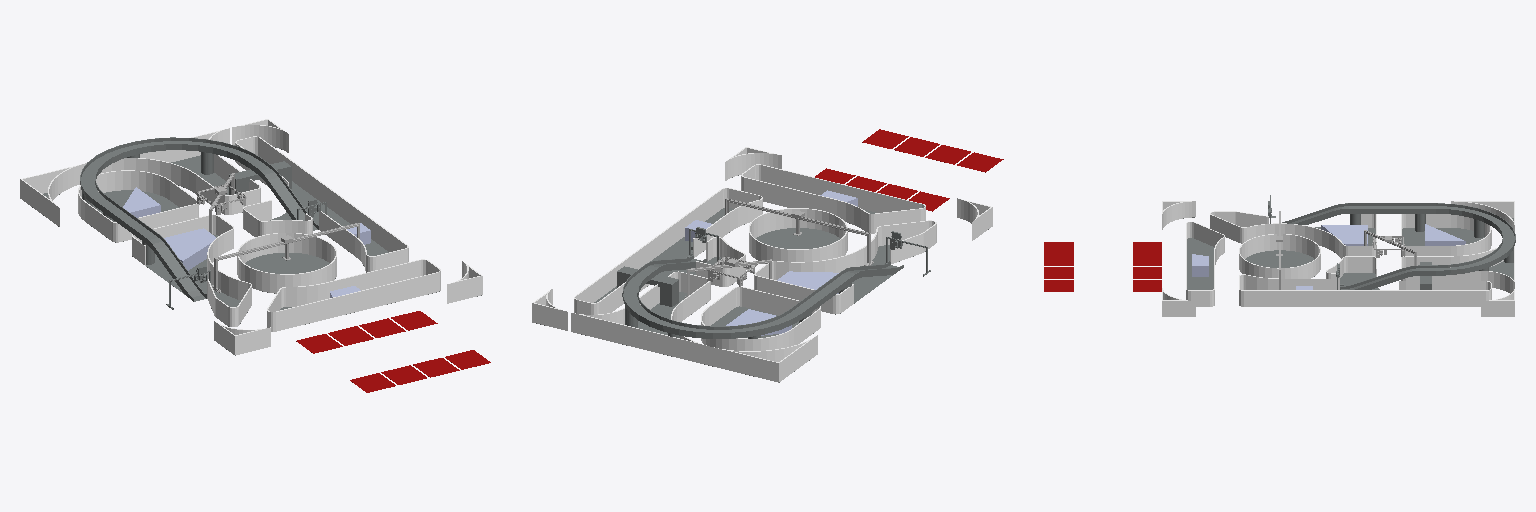
robot.urdf — track2:
<?xml version="1.0" encoding="utf-8"?>
<robot
  name="track2">
  <link
    name="base_link">
    <inertial>
      <origin
        xyz="1.33E-17 -1 -0.025"
        rpy="0 0 0" />
      <mass
        value="12480" />
      <inertia
        ixx="37440"
        ixy="2.6701E-13"
        ixz="-1.4265E-29"
        iyy="1.0885E-28"
        iyz="2.0002E-12"
        izz="37440" />
    </inertial>
    <visual>
      <origin
        xyz="0 0 0"
        rpy="0 0 0" />
      <geometry>
        <mesh
          filename="package://pkg/meshes/track2/base_link.STL" />
      </geometry>
      <material
        name="">
        <color
          rgba="0.52941 0.54902 0.54902 1" />
      </material>
    </visual>
    <collision>
      <origin
        xyz="0 0 0"
        rpy="0 0 0" />
      <geometry>
        <mesh
          filename="package://pkg/meshes/track2/base_link.STL" />
      </geometry>
    </collision>
  </link>
  <link
    name="Green">
    <inertial>
      <origin
        xyz="-0.021288 0.0005 -0.20511"
        rpy="0 0 0" />
      <mass
        value="90.205" />
      <inertia
        ixx="203.73"
        ixy="1.8337E-13"
        ixz="-11.418"
        iyy="280.39"
        iyz="5.1135E-13"
        izz="76.66" />
    </inertial>
    <visual>
      <origin
        xyz="0 0 0"
        rpy="0 0 0" />
      <geometry>
        <mesh
          filename="package://pkg/meshes/track2/Green.STL" />
      </geometry>
      <material
        name="">
        <color
          rgba="0.52941 0.54902 0.54902 1" />
      </material>
    </visual>
    <collision>
      <origin
        xyz="0 0 0"
        rpy="0 0 0" />
      <geometry>
        <mesh
          filename="package://pkg/meshes/track2/Green.STL" />
      </geometry>
    </collision>
  </link>
  <joint
    name="reference_axis1"
    type="fixed">
    <origin
      xyz="0 0.01 0"
      rpy="1.5708 0 0" />
    <parent
      link="base_link" />
    <child
      link="Green" />
    <axis
      xyz="0 0 0" />
  </joint>
  <link
    name="GaoJiaLuMian">
    <inertial>
      <origin
        xyz="-0.43446 0.31281 -1.4529"
        rpy="0 0 0" />
      <mass
        value="635.07" />
      <inertia
        ixx="0"
        ixy="0"
        ixz="0"
        iyy="0"
        iyz="0"
        izz="0" />
    </inertial>
    <visual>
      <origin
        xyz="0 0 0"
        rpy="0 0 0" />
      <geometry>
        <mesh
          filename="package://pkg/meshes/track2/GaoJiaLuMian.STL" />
      </geometry>
      <material
        name="">
        <color
          rgba="0.52941 0.54902 0.54902 1" />
      </material>
    </visual>
    <collision>
      <origin
        xyz="0 0 0"
        rpy="0 0 0" />
      <geometry>
        <mesh
          filename="package://pkg/meshes/track2/GaoJiaLuMian.STL" />
      </geometry>
    </collision>
  </link>
  <joint
    name="reference_axis2"
    type="fixed">
    <origin
      xyz="0 0 0.01"
      rpy="1.5708 0 0" />
    <parent
      link="base_link" />
    <child
      link="GaoJiaLuMian" />
    <axis
      xyz="0 0 0" />
  </joint>
  <link
    name="GaoJiaLiZhu">
    <inertial>
      <origin
        xyz="0.0077567 0.17842 -1.708"
        rpy="0 0 0" />
      <mass
        value="640.46" />
      <inertia
        ixx="345.72"
        ixy="-8.1992"
        ixz="82.902"
        iyy="1102.5"
        iyz="-1.8606"
        izz="757.1" />
    </inertial>
    <visual>
      <origin
        xyz="0 0 0"
        rpy="0 0 0" />
      <geometry>
        <mesh
          filename="package://pkg/meshes/track2/GaoJiaLiZhu.STL" />
      </geometry>
      <material
        name="">
        <color
          rgba="0.52941 0.54902 0.54902 1" />
      </material>
    </visual>
    <collision>
      <origin
        xyz="0 0 0"
        rpy="0 0 0" />
      <geometry>
        <mesh
          filename="package://pkg/meshes/track2/GaoJiaLiZhu.STL" />
      </geometry>
    </collision>
  </link>
  <joint
    name="reference_axis3"
    type="fixed">
    <origin
      xyz="0 0 0.01"
      rpy="1.5708 0 0" />
    <parent
      link="base_link" />
    <child
      link="GaoJiaLiZhu" />
    <axis
      xyz="0 0 0" />
  </joint>
  <link
    name="GaoJiaHuLan">
    <inertial>
      <origin
        xyz="-0.42662 0.34899 -1.3727"
        rpy="0 0 0" />
      <mass
        value="66.326" />
      <inertia
        ixx="0.34956"
        ixy="0.0013582"
        ixz="-0.038451"
        iyy="0.35336"
        iyz="0.012332"
        izz="0.0046703" />
    </inertial>
    <visual>
      <origin
        xyz="0 0 0"
        rpy="0 0 0" />
      <geometry>
        <mesh
          filename="package://pkg/meshes/track2/GaoJiaHuLan.STL" />
      </geometry>
      <material
        name="">
        <color
          rgba="0.52941 0.54902 0.54902 1" />
      </material>
    </visual>
    <collision>
      <origin
        xyz="0 0 0"
        rpy="0 0 0" />
      <geometry>
        <mesh
          filename="package://pkg/meshes/track2/GaoJiaHuLan.STL" />
      </geometry>
    </collision>
  </link>
  <joint
    name="reference_axis4"
    type="fixed">
    <origin
      xyz="0 0 0.01"
      rpy="1.5708 0 0" />
    <parent
      link="base_link" />
    <child
      link="GaoJiaHuLan" />
    <axis
      xyz="0 0 0" />
  </joint>
  <link
    name="DaoLuHuLan">
    <inertial>
      <origin
        xyz="0.064039 0.141 -0.21601"
        rpy="0 0 0" />
      <mass
        value="2204.4" />
      <inertia
        ixx="7101"
        ixy="-7.7475E-14"
        ixz="-221.52"
        iyy="9589.6"
        iyz="-1.3724E-13"
        izz="2488.6" />
    </inertial>
    <visual>
      <origin
        xyz="0 0 0"
        rpy="0 0 0" />
      <geometry>
        <mesh
          filename="package://pkg/meshes/track2/DaoLuHuLan.STL" />
      </geometry>
      <material
        name="">
        <color
          rgba="1 1 1 1" />
      </material>
    </visual>
    <collision>
      <origin
        xyz="0 0 0"
        rpy="0 0 0" />
      <geometry>
        <mesh
          filename="package://pkg/meshes/track2/DaoLuHuLan.STL" />
      </geometry>
    </collision>
  </link>
  <joint
    name="reference_axis5"
    type="fixed">
    <origin
      xyz="0 0 0.01"
      rpy="1.5708 0 0" />
    <parent
      link="base_link" />
    <child
      link="DaoLuHuLan" />
    <axis
      xyz="0 0 0" />
  </joint>
  <link
    name="Parking">
    <inertial>
      <origin
        xyz="-0.015 -0.0095 4"
        rpy="0 0 0" />
      <mass
        value="14.976" />
      <inertia
        ixx="8.424"
        ixy="-3.3863E-19"
        ixz="4.4409E-16"
        iyy="13.293"
        iyz="1.3425E-18"
        izz="4.8691" />
    </inertial>
    <visual>
      <origin
        xyz="0 0 0"
        rpy="0 0 0" />
      <geometry>
        <mesh
          filename="package://pkg/meshes/track2/Parking.STL" />
      </geometry>
      <material
        name="">
        <color
          rgba="0.69412 0.098039 0.098039 1" />
      </material>
    </visual>
    <collision>
      <origin
        xyz="0 0 0"
        rpy="0 0 0" />
      <geometry>
        <mesh
          filename="package://pkg/meshes/track2/Parking.STL" />
      </geometry>
    </collision>
  </link>
  <joint
    name="reference_axis6"
    type="fixed">
    <origin
      xyz="0 0 0.01"
      rpy="1.5708 0 0" />
    <parent
      link="base_link" />
    <child
      link="Parking" />
    <axis
      xyz="0 0 0" />
  </joint>
  <link
    name="JianZhu">
    <inertial>
      <origin
        xyz="-0.535660882369995 0.091 -0.142348821041457"
        rpy="0 0 0" />
      <mass
        value="1482" />
      <inertia
        ixx="2309.92172498835"
        ixy="7.88860905221012E-31"
        ixz="-764.746547214597"
        iyy="3070.9178306123"
        iyz="0"
        izz="760.996105623949" />
    </inertial>
    <visual>
      <origin
        xyz="0 0 0"
        rpy="0 0 0" />
      <geometry>
        <mesh
          filename="package://pkg/meshes/track2/JianZhu.STL" />
      </geometry>
      <material
        name="">
        <color
          rgba="0.792156862745098 0.819607843137255 0.933333333333333 1" />
      </material>
    </visual>
    <collision>
      <origin
        xyz="0 0 0"
        rpy="0 0 0" />
      <geometry>
        <mesh
          filename="package://pkg/meshes/track2/JianZhu.STL" />
      </geometry>
    </collision>
  </link>
  <joint
    name="reference_axis7"
    type="fixed">
    <origin
      xyz="0 0 0.01"
      rpy="1.5708 0 0" />
    <parent
      link="base_link" />
    <child
      link="JianZhu" />
    <axis
      xyz="0 0 0" />
  </joint>
  
  <link
    name="Camera1">
    <inertial>
      <origin
        xyz="0.045514 -0.0011551 -0.11097"
        rpy="0 0 0" />
      <mass
        value="9.1452" />
      <inertia
        ixx="0.12819"
        ixy="0.0059673"
        ixz="0.047557"
        iyy="0.3544"
        iyz="-0.00907"
        izz="0.22944" />
    </inertial>
    <visual>
      <origin
        xyz="0 0 0"
        rpy="0 0 0" />
      <geometry>
        <mesh
          filename="package://pkg/meshes/track2/Camera1.STL" />
      </geometry>
      <material
        name="">
        <color
          rgba="0.52941 0.54902 0.54902 1" />
      </material>
    </visual>
    <collision>
      <origin
        xyz="0 0 0"
        rpy="0 0 0" />
      <geometry>
        <mesh
          filename="package://pkg/meshes/track2/Camera1.STL" />
      </geometry>
    </collision>
  </link>
  <joint
    name="reference_axis9"
    type="fixed">
    <origin
      xyz="-1.4846 -1.1758 0.46888"
      rpy="6.1228E-17 -5.3433E-19 -3.1329" />
    <parent
      link="base_link" />
    <child
      link="Camera1" />
    <axis
      xyz="0 0 0" />
  </joint>
  <link
    name="LeiDa1">
    <inertial>
      <origin
        xyz="-0.063086 0.11045 0.19918"
        rpy="0 0 0" />
      <mass
        value="27.172" />
      <inertia
        ixx="8.1535"
        ixy="0.0012332"
        ixz="-5.7624E-05"
        iyy="7.6309"
        iyz="0.004968"
        izz="0.53777" />
    </inertial>
    <visual>
      <origin
        xyz="0 0 0"
        rpy="0 0 0" />
      <geometry>
        <mesh
          filename="package://pkg/meshes/track2/LeiDa1.STL" />
      </geometry>
      <material
        name="">
        <color
          rgba="0.75294 0.75294 0.75294 1" />
      </material>
    </visual>
    <collision>
      <origin
        xyz="0 0 0"
        rpy="0 0 0" />
      <geometry>
        <mesh
          filename="package://pkg/meshes/track2/LeiDa1.STL" />
      </geometry>
    </collision>
  </link>
  <joint
    name="reference-axis10"
    type="fixed">
    <origin
      xyz="-0.19987 -0.93672 0.28895"
      rpy="1.5708 6.123E-17 1.5708" />
    <parent
      link="base_link" />
    <child
      link="LeiDa1" />
    <axis
      xyz="0 0 0" />
  </joint>
  <link
    name="Camera2">
    <inertial>
      <origin
        xyz="-0.13386 0.20588 -0.13696"
        rpy="0 0 0" />
      <mass
        value="14.939" />
      <inertia
        ixx="0.64052"
        ixy="0.23937"
        ixz="-0.18614"
        iyy="0.46274"
        iyz="0.26255"
        izz="0.71826" />
    </inertial>
    <visual>
      <origin
        xyz="0 0 0"
        rpy="0 0 0" />
      <geometry>
        <mesh
          filename="package://pkg/meshes/track2/Camera2.STL" />
      </geometry>
      <material
        name="">
        <color
          rgba="0.52941 0.54902 0.54902 1" />
      </material>
    </visual>
    <collision>
      <origin
        xyz="0 0 0"
        rpy="0 0 0" />
      <geometry>
        <mesh
          filename="package://pkg/meshes/track2/Camera2.STL" />
      </geometry>
    </collision>
  </link>
  <joint
    name="reference_axis11"
    type="fixed">
    <origin
      xyz="1.21054201286997 -0.238453398504354 0.0151409820672447"
      rpy="1.5707963267949 0 0" />
    <parent
      link="base_link" />
    <child
      link="Camera2" />
    <axis
      xyz="0 0 0" />
  </joint>
 <link
    name="LeiDa2">
    <inertial>
      <origin
        xyz="1.7978 0.10931 0.21166"
        rpy="0 0 0" />
      <mass
        value="34.473" />
      <inertia
        ixx="2.2398"
        ixy="0.029814"
        ixz="-1.0456"
        iyy="3.515"
        iyz="0.016925"
        izz="2.237" />
    </inertial>
    <visual>
      <origin
        xyz="0 0 0"
        rpy="0 0 0" />
      <geometry>
        <mesh
          filename="package://pkg/meshes/track2/LeiDa2.STL" />
      </geometry>
      <material
        name="">
        <color
          rgba="0.75294 0.75294 0.75294 1" />
      </material>
    </visual>
    <collision>
      <origin
        xyz="0 0 0"
        rpy="0 0 0" />
      <geometry>
        <mesh
          filename="package://pkg/meshes/track2/LeiDa2.STL" />
      </geometry>
    </collision>
  </link>
  <joint
    name="reference-axis12"
    type="fixed">
    <origin
      xyz="-0.19987 -0.93672 0.28895"
      rpy="1.5708 6.123E-17 1.5708" />
    <parent
      link="base_link" />
    <child
      link="LeiDa2" />
    <axis
      xyz="0 0 0" />
  </joint>
  <gazebo reference="base_link">
   <material>Gazebo/White</material>
   <mu1 value="0.5"/>
   <mu2 value="0.5"/>
   <kp  value="1000000.0" />
   <kd  value="1.0" />
   <fdir1 value="1 0 0"/>
  </gazebo>

    <gazebo reference="Camera1">
   <material>Gazebo/Gray</material>
  </gazebo>
  <gazebo reference="Camera2">
   <material>Gazebo/Gray</material>
  </gazebo>
  <gazebo reference="Camera3">
   <material>Gazebo/Gray</material>
  </gazebo>
  <gazebo reference="DaoLuHuLan">
   <material>Gazebo/Residential</material>
  </gazebo>
   <gazebo reference="GaoJiaHuLan">
   <material>Gazebo/Residential</material>
  </gazebo>
  <gazebo reference="GaoJiaLiZhu">
   <material>Gazebo/Residential</material>
  </gazebo>
  <gazebo reference="GaoJiaLuMian">
   <material>Gazebo/White</material>
   <mu1 value="0.5"/>
   <mu2 value="0.5"/>
   <kp  value="1000000.0" />
   <kd  value="1.0" />
   <fdir1 value="1 0 0"/>
  </gazebo>
  <gazebo reference="Green">
   <material>Gazebo/Grass</material>
  </gazebo>
  <gazebo reference="JianZhu">
   <material>Gazebo/Bricks</material>
  </gazebo> 
  <gazebo reference="LeiDa1">
   <material>Gazebo/Gray</material>
  </gazebo>
  <gazebo reference="LeiDa2">
   <material>Gazebo/Gray</material>
  </gazebo>
    <gazebo reference="Parking">
   <material>Gazebo/Residential</material>
  </gazebo>
</robot>

--- Render facts (derived) ---
The picture shows the robot from 3 angles, left to right: view 1: azimuth 30°, elevation 25°; view 2: azimuth 150°, elevation 25°; view 3: azimuth 270°, elevation 25°; orthographic projection.
Robot: track2 — 12 links, 11 joints (11 fixed); root link base_link; default pose: all joints at 0.
Links seen in each view (by area): view 1: DaoLuHuLan, Parking, Green, GaoJiaLuMian, GaoJiaHuLan, JianZhu, GaoJiaLiZhu, LeiDa1, LeiDa2; view 2: DaoLuHuLan, Green, Parking, GaoJiaLuMian, GaoJiaHuLan, JianZhu, GaoJiaLiZhu, LeiDa2, LeiDa1; view 3: DaoLuHuLan, Green, Parking, GaoJiaHuLan, GaoJiaLuMian, JianZhu, GaoJiaLiZhu.
Boxes of the visible links, left/top/right/bottom form: DaoLuHuLan: left=20, top=119, right=482, bottom=354; Parking: left=296, top=311, right=490, bottom=392; Green: left=32, top=147, right=481, bottom=355; GaoJiaLuMian: left=81, top=141, right=317, bottom=301; GaoJiaHuLan: left=80, top=137, right=318, bottom=301; JianZhu: left=123, top=187, right=370, bottom=297; GaoJiaLiZhu: left=82, top=152, right=291, bottom=264; LeiDa1: left=211, top=223, right=359, bottom=292; LeiDa2: left=196, top=173, right=246, bottom=233; DaoLuHuLan: left=532, top=147, right=992, bottom=382; Green: left=536, top=175, right=988, bottom=382; Parking: left=815, top=129, right=1003, bottom=211; GaoJiaLuMian: left=623, top=259, right=897, bottom=338; GaoJiaHuLan: left=622, top=255, right=903, bottom=335; JianZhu: left=685, top=190, right=857, bottom=335; GaoJiaLiZhu: left=617, top=266, right=851, bottom=338; LeiDa2: left=685, top=256, right=771, bottom=297; LeiDa1: left=725, top=198, right=873, bottom=265; DaoLuHuLan: left=1162, top=201, right=1514, bottom=316; Green: left=1183, top=217, right=1513, bottom=289; Parking: left=1044, top=242, right=1161, bottom=291; GaoJiaHuLan: left=1282, top=203, right=1515, bottom=289; GaoJiaLuMian: left=1289, top=206, right=1514, bottom=289; JianZhu: left=1192, top=224, right=1465, bottom=289; GaoJiaLiZhu: left=1350, top=214, right=1513, bottom=289.
Bounding box of the posed robot: 4 × 8 × 0.5482 m (x, y, z).
Meshes: 12 distinct files referenced, 11 mesh visuals loaded (11 binary STL); not drawn: 1 (reference not matched to a file when rendering).
